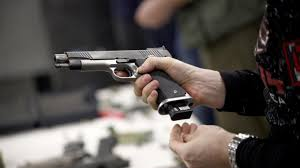Weapon: (49, 45, 196, 125)
